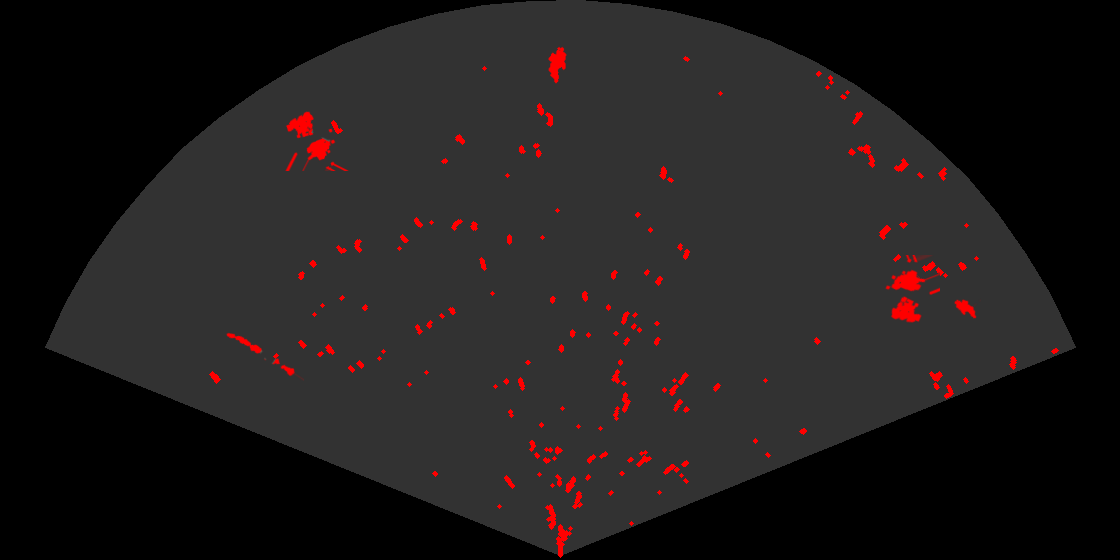AUV: (547, 45, 568, 85), (953, 298, 981, 320)
cage: (284, 110, 350, 171), (884, 255, 940, 324)
chain: (225, 331, 304, 381)
